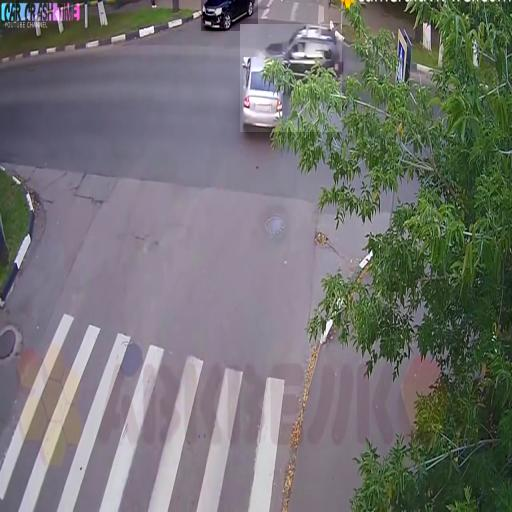小汽车: (201, 0, 258, 31)
小汽车撞小汽车: (240, 24, 342, 132)
